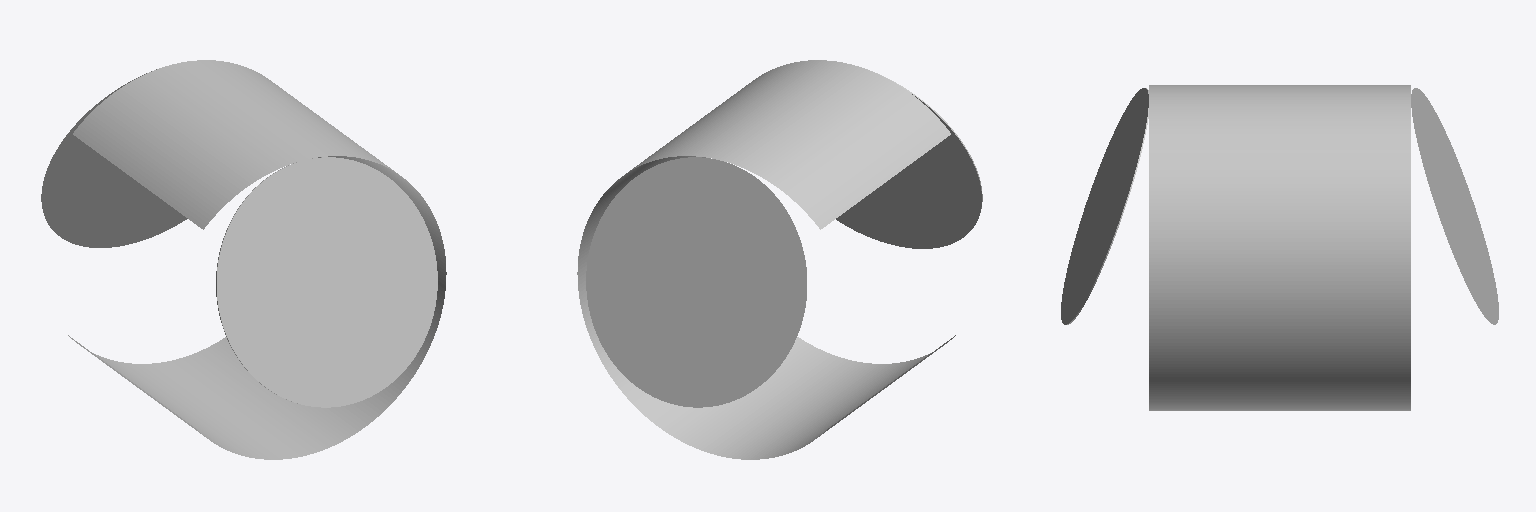
The model's file is plane bend69.obj.
3 views of the same model, side by side, from view 1: azimuth 30°, elevation 25°; view 2: azimuth 150°, elevation 25°; view 3: azimuth 270°, elevation 25° (orthographic).
Parts seen in each view (by area): view 1: Plane, Circle, Circle.001; view 2: Plane, Circle.001, Circle; view 3: Plane, Circle, Circle.001.
Boxes of the visible parts, x1,y1,x2,y2 form: Plane: [68, 60, 446, 459]; Circle: [216, 157, 437, 407]; Circle.001: [41, 69, 187, 247]; Plane: [577, 60, 955, 459]; Circle.001: [586, 157, 806, 407]; Circle: [836, 64, 982, 248]; Plane: [1149, 85, 1410, 410]; Circle: [1061, 88, 1148, 324]; Circle.001: [1411, 88, 1498, 324].
Bounding box in the file's own units: 2.2 × 2.49 × 3.34.